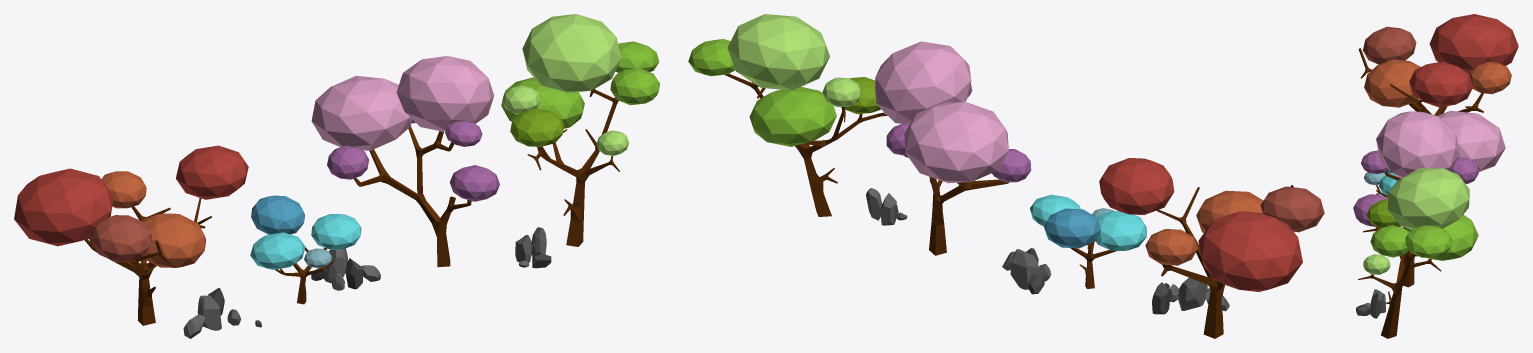
Rendered from trees.glb.
3 renders of one model, left to right at view 1: azimuth 30°, elevation 25°; view 2: azimuth 150°, elevation 25°; view 3: azimuth 270°, elevation 25°, orthographic. The views are drawn at different scales.
Parts seen in each view (by area): view 1: Tree 3, tree 1, Tree 4, Tree2, Cube.007, Cube.002; view 2: tree 1, Tree 3, Tree 4, Tree2, Cube.002, Cube.007, Cube.010; view 3: tree 1, Tree 4, Tree 3, Tree2, Cube.012, Cube.011.
Boxes of the visible parts, left/top/right/bottom form: Tree 3: left=311, top=56, right=499, bottom=267; tree 1: left=14, top=145, right=248, bottom=325; Tree 4: left=501, top=14, right=659, bottom=246; Tree2: left=250, top=195, right=361, bottom=304; Cube.007: left=197, top=295, right=221, bottom=330; Cube.002: left=323, top=248, right=347, bottom=283; tree 1: left=1099, top=158, right=1324, bottom=338; Tree 3: left=874, top=41, right=1031, bottom=255; Tree 4: left=688, top=14, right=887, bottom=216; Tree2: left=1030, top=194, right=1146, bottom=288; Cube.002: left=1010, top=249, right=1039, bottom=289; Cube.007: left=1178, top=277, right=1207, bottom=310; Cube.010: left=1152, top=282, right=1169, bottom=314; tree 1: left=1358, top=14, right=1518, bottom=115; Tree 4: left=1358, top=168, right=1478, bottom=338; Tree 3: left=1353, top=110, right=1505, bottom=287; Tree2: left=1364, top=169, right=1402, bottom=226; Cube.012: left=1370, top=293, right=1383, bottom=318; Cube.011: left=1356, top=304, right=1370, bottom=315.
Bounding box in the file's own units: 27.4 × 8.64 × 7.51.
